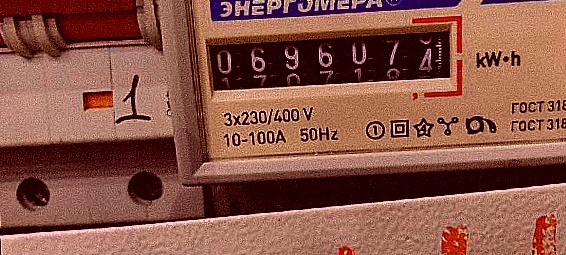0: (212, 46, 235, 75), (349, 36, 368, 66), (248, 44, 266, 71)
4: (415, 45, 434, 74)
6: (314, 38, 333, 69)
7: (382, 35, 401, 65)
9: (281, 41, 300, 70)
screen: (190, 10, 468, 109)
